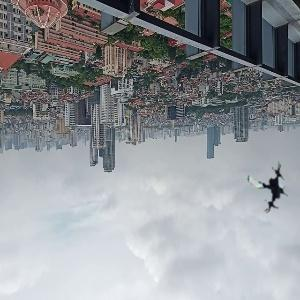drone: (241, 157, 297, 213)
